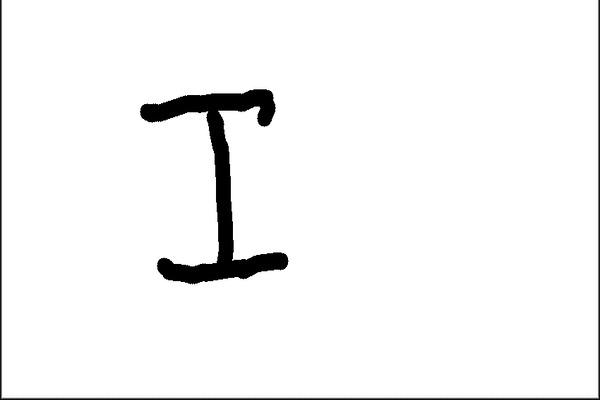i: (126, 88, 295, 284)
